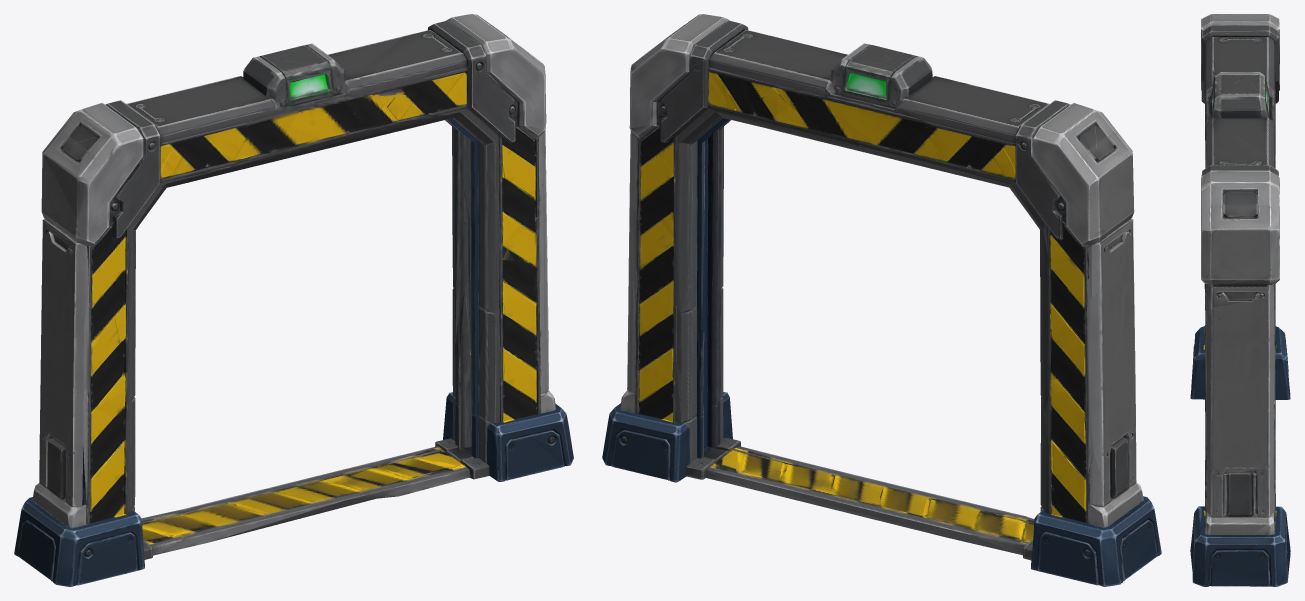
File: door_frame.glb
3 renders of one model, left to right at view 1: azimuth 30°, elevation 25°; view 2: azimuth 150°, elevation 25°; view 3: azimuth 270°, elevation 25°, orthographic. The views are drawn at different scales.
Parts seen in each view (by area): view 1: Mesh_0; view 2: Mesh_0; view 3: Mesh_0.
Part boxes in pixels (<box>): Mesh_0: <box>14,14,573,586</box>; Mesh_0: <box>602,14,1161,586</box>; Mesh_0: <box>1190,14,1290,586</box>.
Size of the model in its own units: 1.9 by 1.57 by 0.3633.
Materials: 1 (1 with a texture image).
